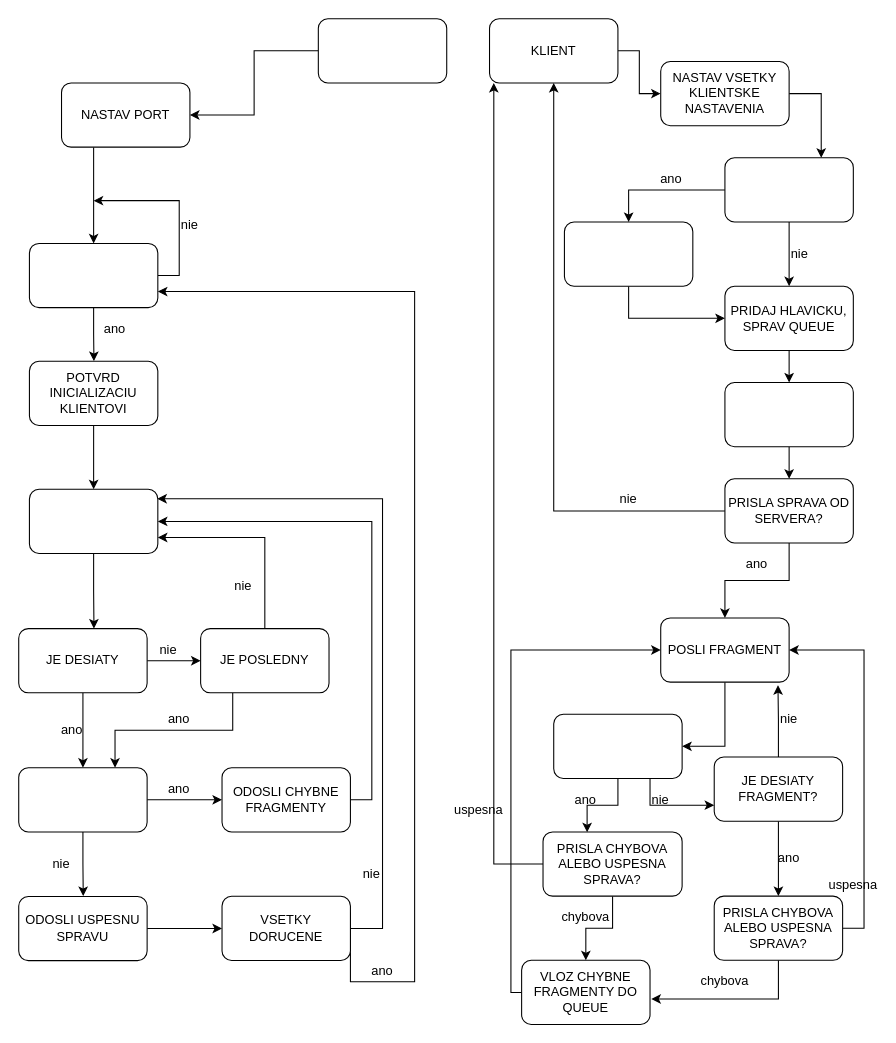
Image size: 896x1043. Some labels were removed from this diagram. Here are the shapes that lost their labels. From the top down, the centre of each, then its label:
At (x=382, y=50): "SERVER".
At (x=788, y=189): "DELIT NA FRAGMETY?".
At (x=628, y=253): "ROZDEL NA FRAGMENTY".
At (x=93, y=275): "INICIALIZACNA SPRAVA?".
At (x=788, y=414): "INICIALIZACIA SPOJENIA".
At (x=93, y=521): "CAKAJ NA FRAGMENT".
At (x=617, y=745): "JE POSLEDNY FRAGMENT?".
At (x=82, y=799): "SU CHYBNE FRAGMENTY".
